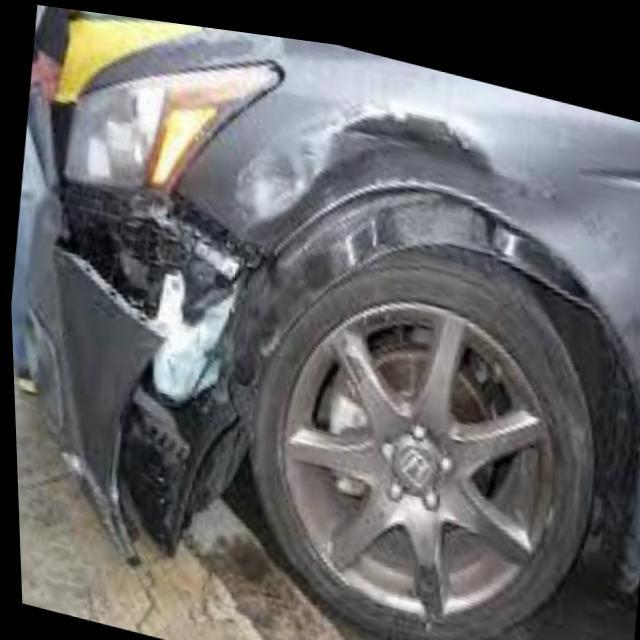dent: (241, 93, 595, 339)
dislocated part: (45, 179, 253, 561)
